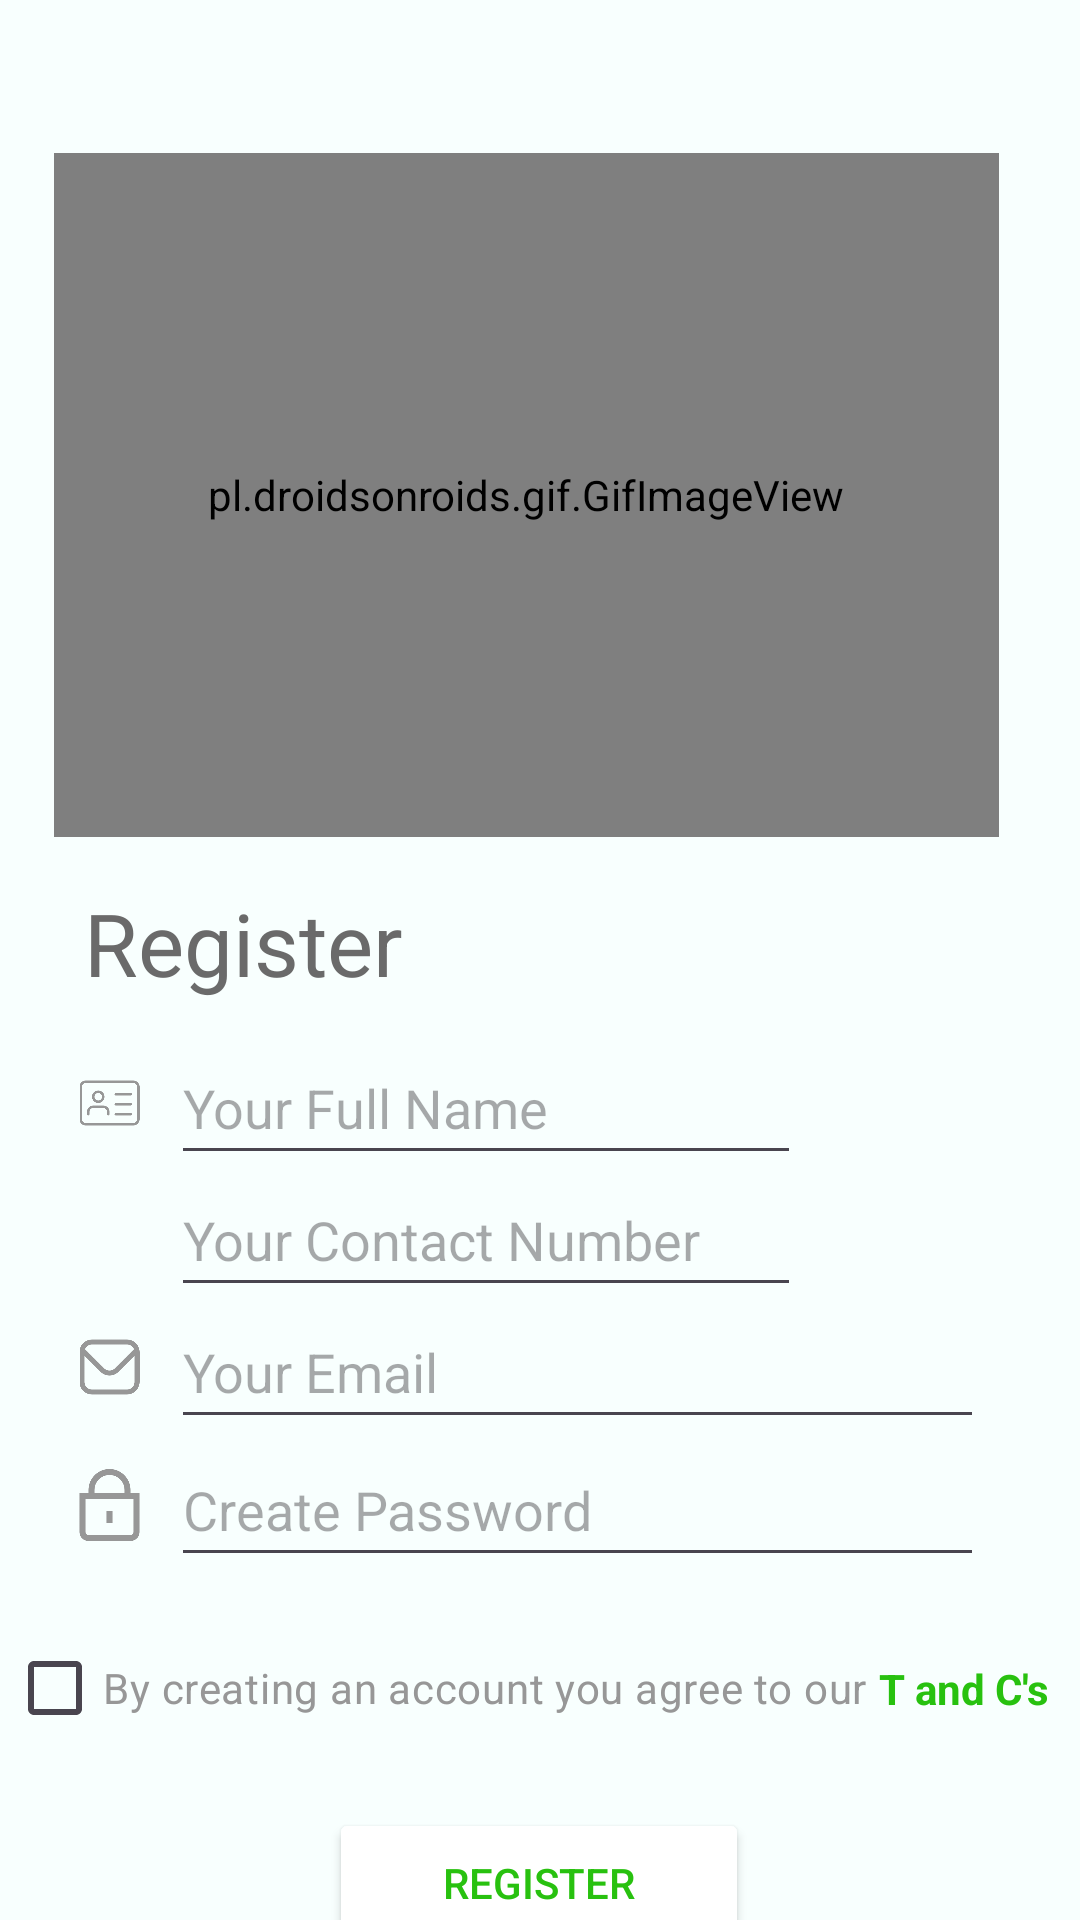

Screen size 1080 × 1920. Icon name, then its box in pixels as (x1, y1, x2, y2):
envelope: (80, 1339, 140, 1395)
id card: (80, 1080, 140, 1126)
lock: (79, 1469, 140, 1541)
